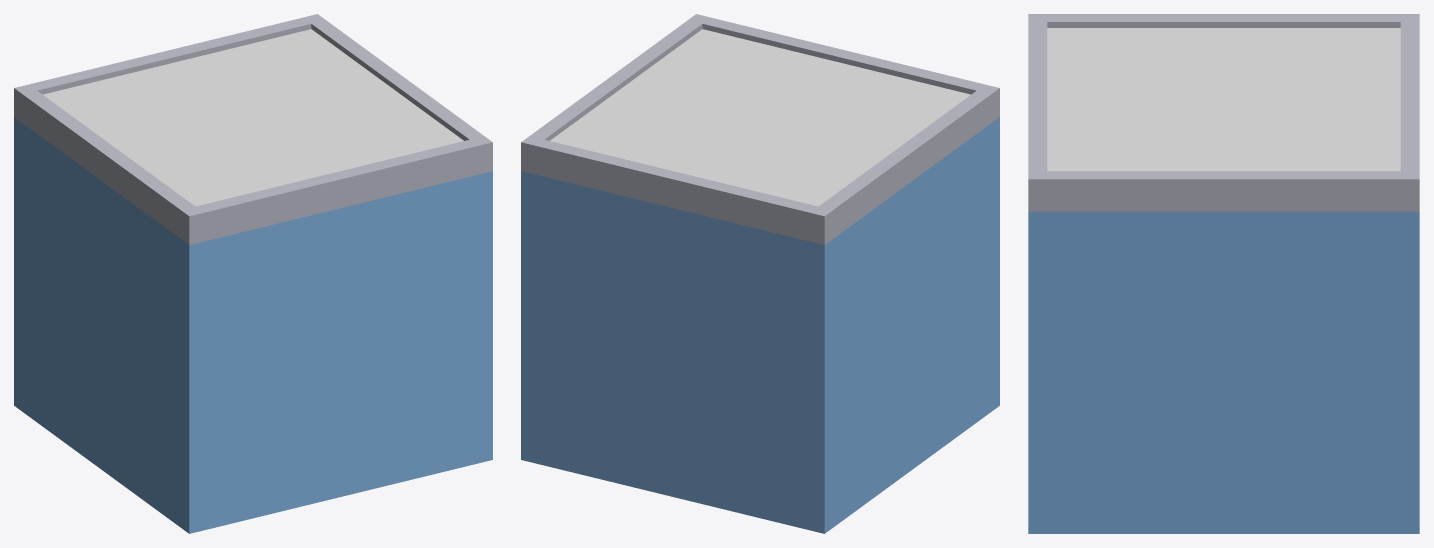
Rendered from SM_Building_30x30.fbx.
The picture shows the model from 3 angles, left to right: view 1: azimuth 30°, elevation 25°; view 2: azimuth 150°, elevation 25°; view 3: azimuth 270°, elevation 25°; orthographic projection. The views are drawn at different scales.
Visible parts, largest first — view 1: Building_30x30; view 2: Building_30x30; view 3: Building_30x30.
Boxes of the visible parts, box(x1,y1,x2,y2) form: Building_30x30: box(14, 14, 492, 533); Building_30x30: box(521, 14, 999, 533); Building_30x30: box(1028, 14, 1419, 533).
Bounding box in the file's own units: 3000 × 3000 × 3000.
